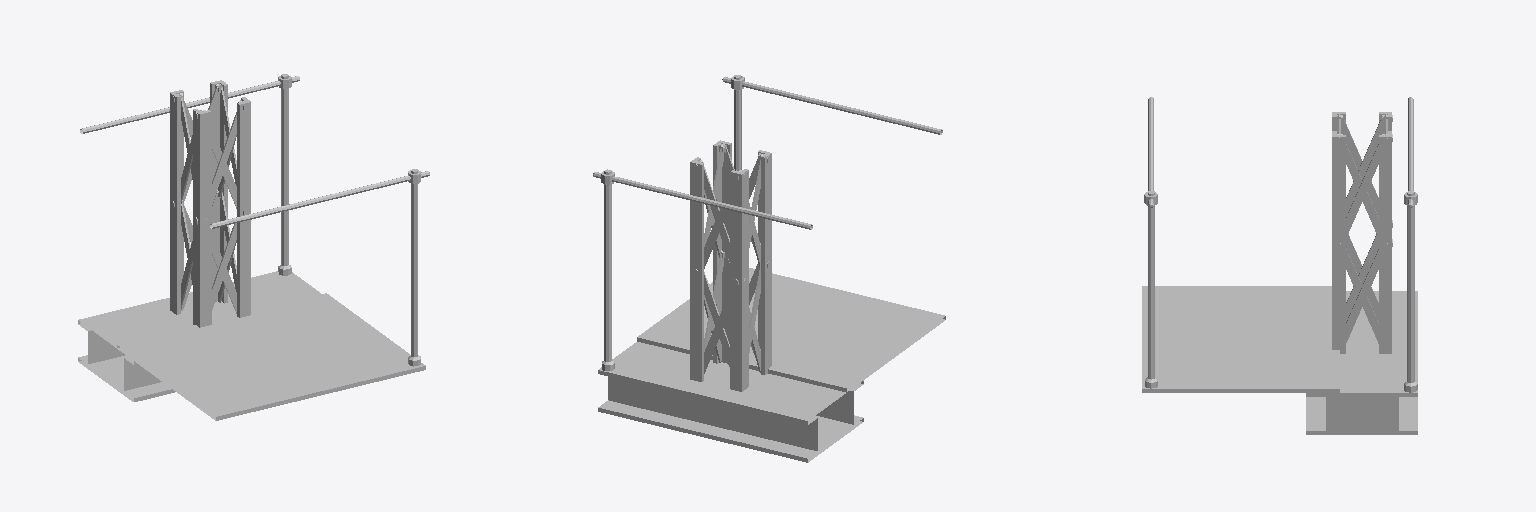
File: lms_signal_gantry_platform_right_lattice.obj
The picture shows the model from 3 angles: view 1: azimuth 30°, elevation 25°; view 2: azimuth 150°, elevation 25°; view 3: azimuth 270°, elevation 25°; orthographic projection.
Parts seen in each view (by area): view 1: Platform_Right_lattice_Cube.017; view 2: Platform_Right_lattice_Cube.017; view 3: Platform_Right_lattice_Cube.017.
Boxes of the visible parts, x1,y1,x2,y2 form: Platform_Right_lattice_Cube.017: [78, 74, 429, 420]; Platform_Right_lattice_Cube.017: [593, 75, 945, 462]; Platform_Right_lattice_Cube.017: [1142, 97, 1417, 434].
Size of the model in its own units: 1.04 by 1.18 by 1.14.